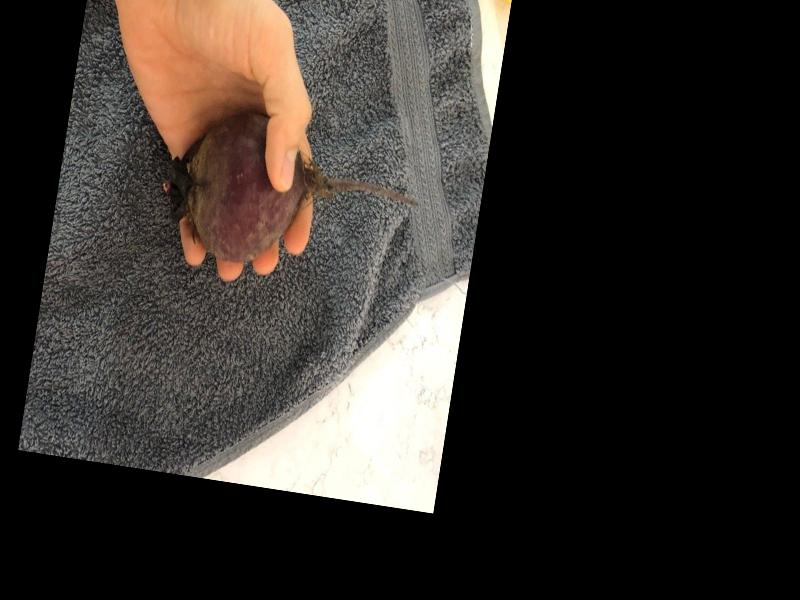Beet: (158, 101, 427, 290)
